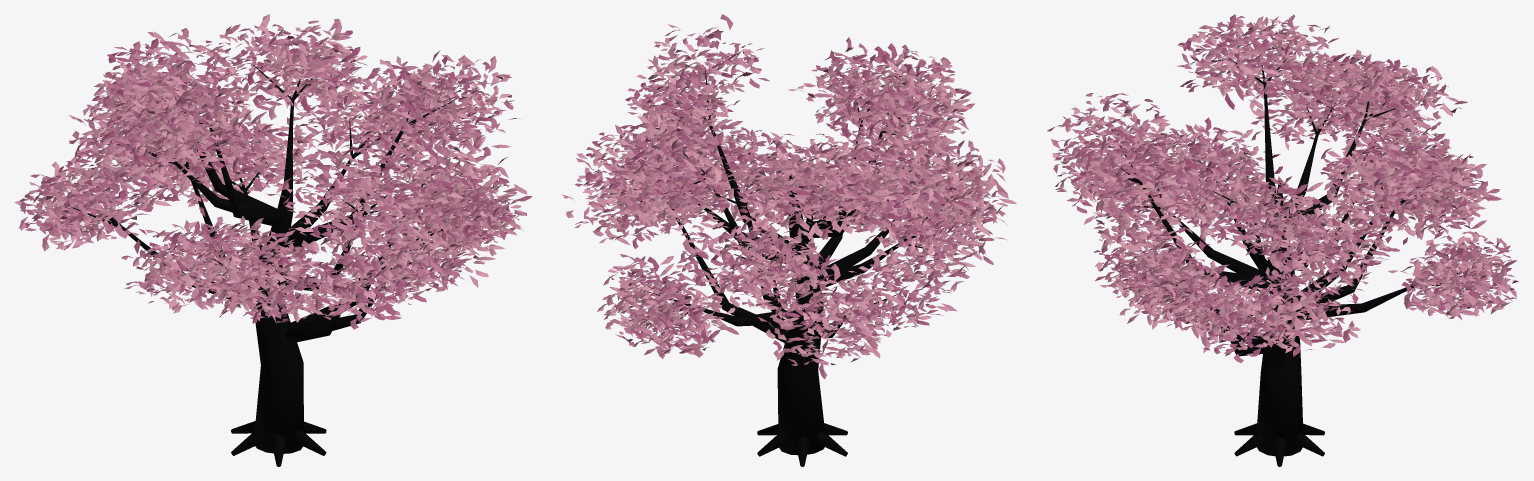
The model's file is tree-2-lod.glb.
3 renders of one model, left to right at view 1: azimuth 30°, elevation 25°; view 2: azimuth 150°, elevation 25°; view 3: azimuth 270°, elevation 25°, orthographic. The views are drawn at different scales.
Visible parts, largest first — view 1: tree-2 export; view 2: tree-2 export; view 3: tree-2 export.
Boxes of the visible parts, left/top/right/bottom form: tree-2 export: left=14, top=14, right=532, bottom=466; tree-2 export: left=562, top=14, right=1016, bottom=466; tree-2 export: left=1047, top=14, right=1518, bottom=466.
Bounding box in the file's own units: 10.42 × 9.17 × 10.24.
